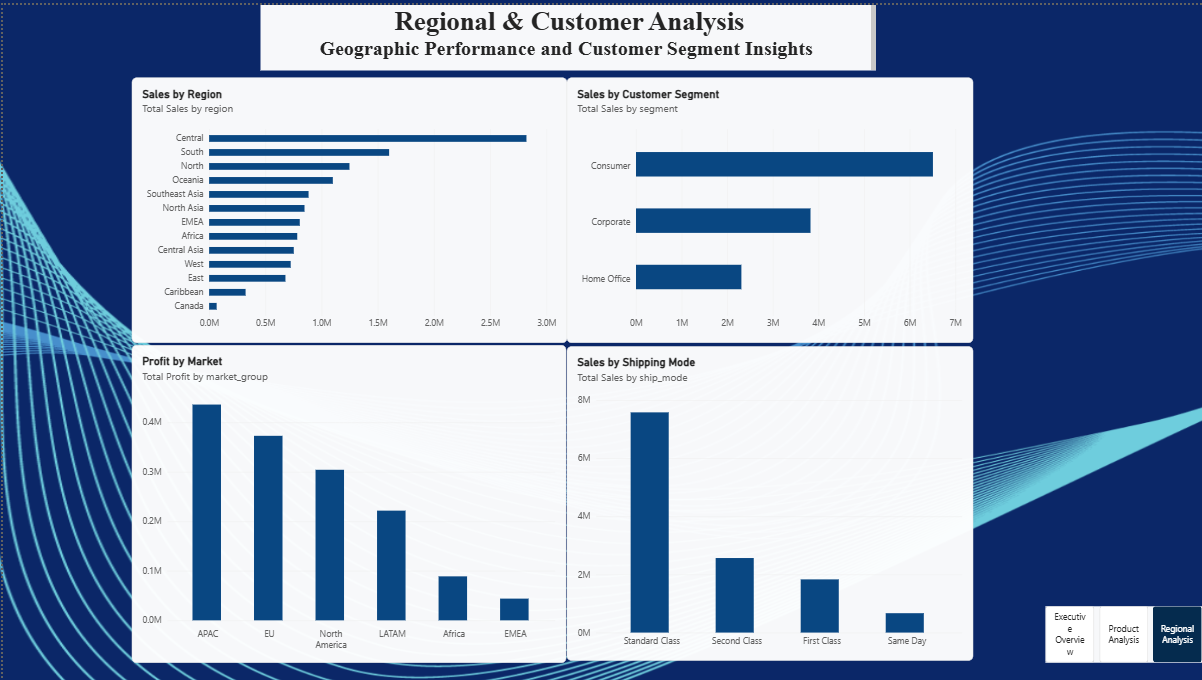

Layout of this report page (visuals, bound fields, positions):
{"tool":"powerbi","page":{"name":"Regional Analysis","canvas":[1920,1080],"ordinal":2},"visuals":[{"type":"textbox","box":[411.7,0,984.5,104.9],"z":0},{"type":"clusteredBarChart","title":"Sales by Region","fields":{"Category":["global_retail.region"],"Y":["KPIs.Total Sales"]},"box":[205.8,120.4,695.1,425.2],"z":1000},{"type":"clusteredBarChart","title":"Sales by Customer Segment","fields":{"Category":["global_retail.segment"],"Y":["KPIs.Total Sales"]},"box":[901,120.4,650.5,427.2],"z":2000},{"type":"columnChart","title":"Profit by Market","fields":{"Category":["global_retail.market_group"],"Y":["KPIs.Total Profit"]},"box":[205.8,543.7,695.1,508.7],"z":3000},{"type":"columnChart","title":"Sales by Shipping Mode","fields":{"Category":["global_retail.ship_mode"],"Y":["KPIs.Total Sales"]},"box":[901,547.6,650.5,504.9],"z":4000},{"type":"pageNavigator","box":[1667.6,1011.7,252.4,68],"z":4001}]}

Visuals, with their boxes in screenshot pixels (x1, y1, x2, y2), scaled from the page's 1920x1080 canvas onto the 1202x680 screenshot:
textbox: box(258, 0, 874, 66)
"Sales by Region" clusteredBarChart: box(129, 76, 564, 344)
"Sales by Customer Segment" clusteredBarChart: box(564, 76, 971, 345)
"Profit by Market" columnChart: box(129, 342, 564, 663)
"Sales by Shipping Mode" columnChart: box(564, 345, 971, 663)
pageNavigator: box(1044, 637, 1201, 679)
